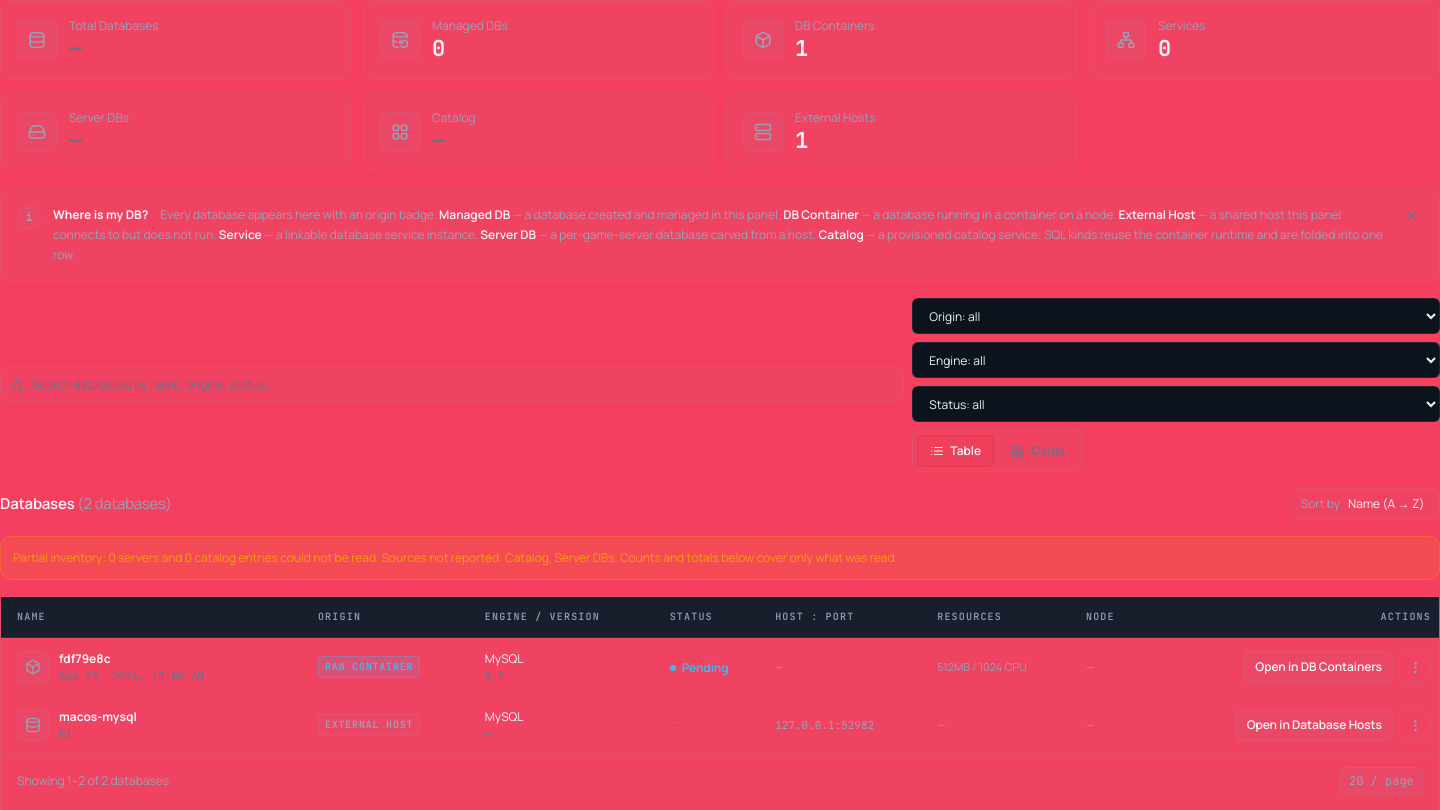
databases overview › filters rows by search
Expected: the text "macos-mysql" is shown, [59,708,137,726]
Type "macos" into the search field labelled "Search databases".
click(463, 385); type("macos")  # box [32,376,893,394]
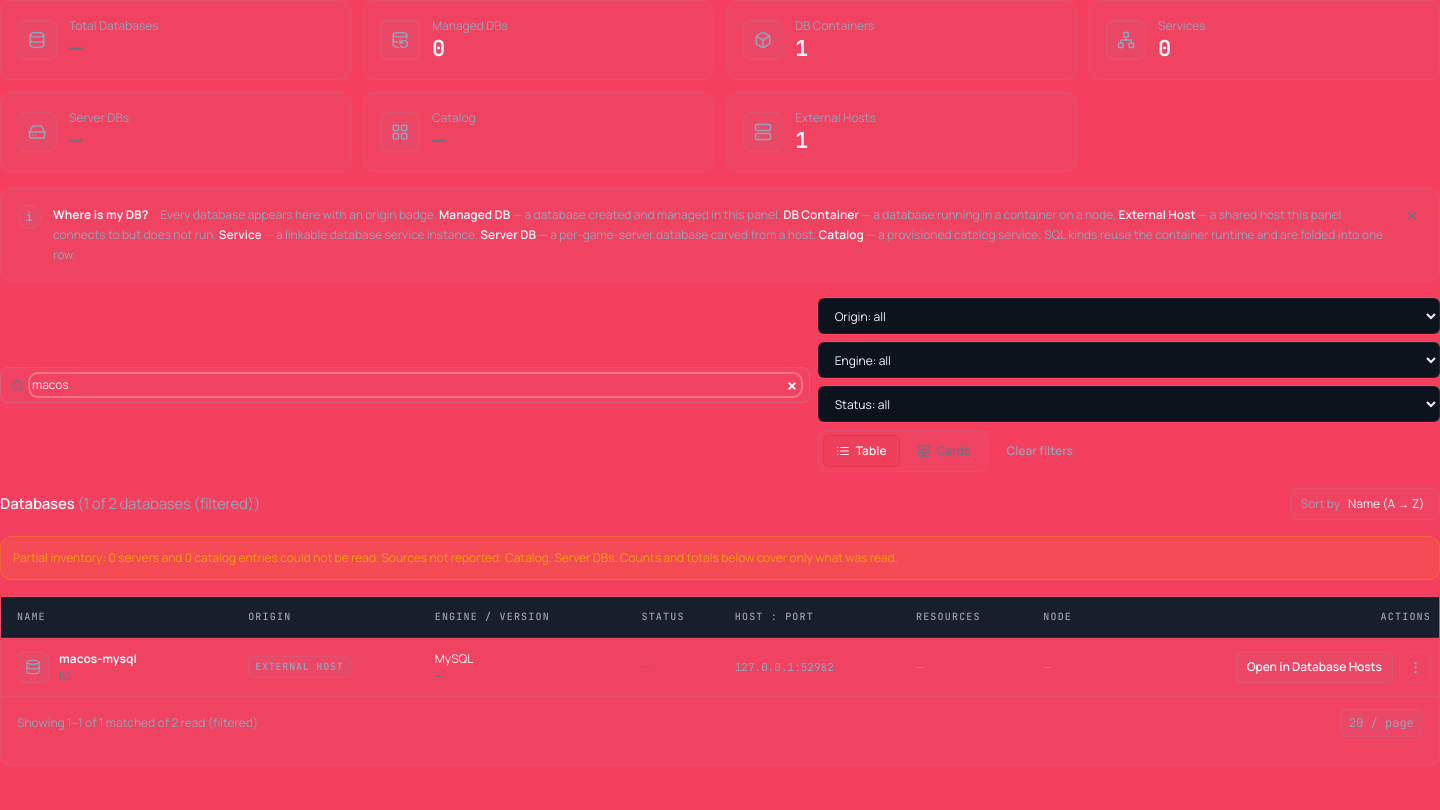
Expected: the text "macos-mysql" is shown, [59,650,137,668]
Expected: the text "fdf79e8c" is gone
